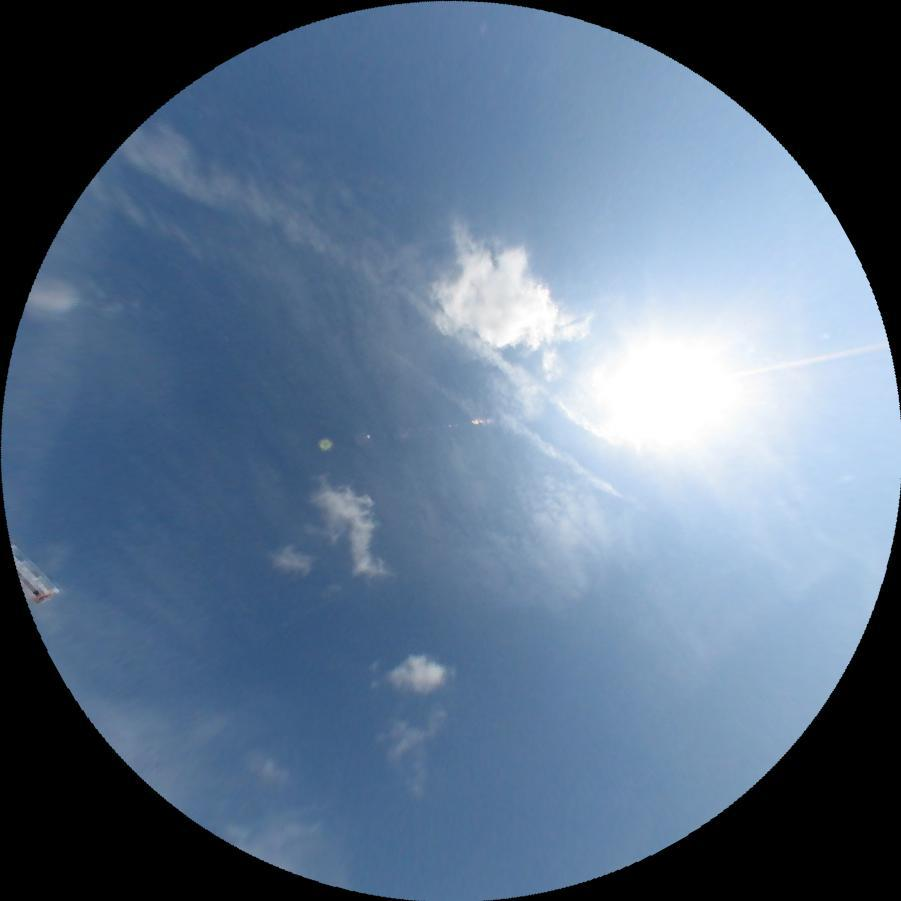contrail veryold: (116, 108, 637, 443), (377, 345, 623, 500)
parasite: (742, 339, 886, 379)
sun: (590, 301, 760, 473)
